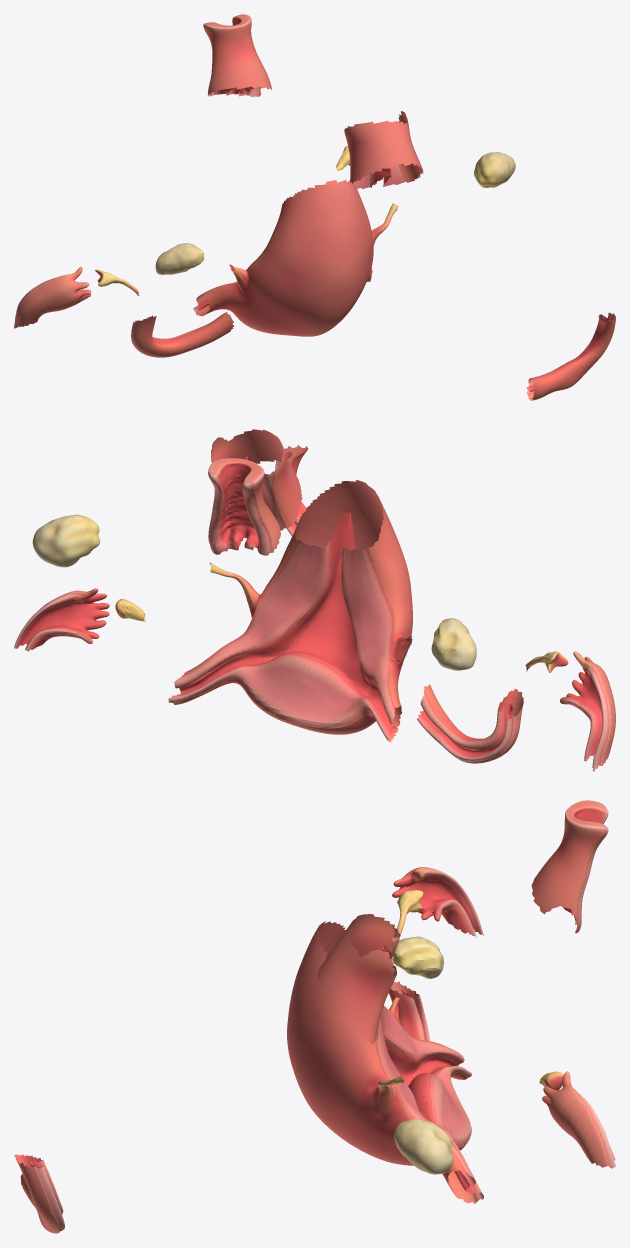
3 renders of one model, top to bottom at view 1: azimuth 30°, elevation 25°; view 2: azimuth 150°, elevation 25°; view 3: azimuth 270°, elevation 25°, orthographic. The views are drawn at different scales.
Parts seen in each view (by area): view 1: model:object_0, model:object_1; view 2: model:object_0, model:object_1; view 3: model:object_0, model:object_1.
Part boxes in pixels (box(x1,y1,x2,y2)): model:object_0: box(14, 14, 615, 400); model:object_1: box(155, 152, 515, 274); model:object_0: box(14, 429, 615, 771); model:object_1: box(32, 514, 476, 670); model:object_0: box(14, 800, 615, 1233); model:object_1: box(392, 936, 453, 1174).
Size of the model in its own units: 59.83 by 30.42 by 48.73.
